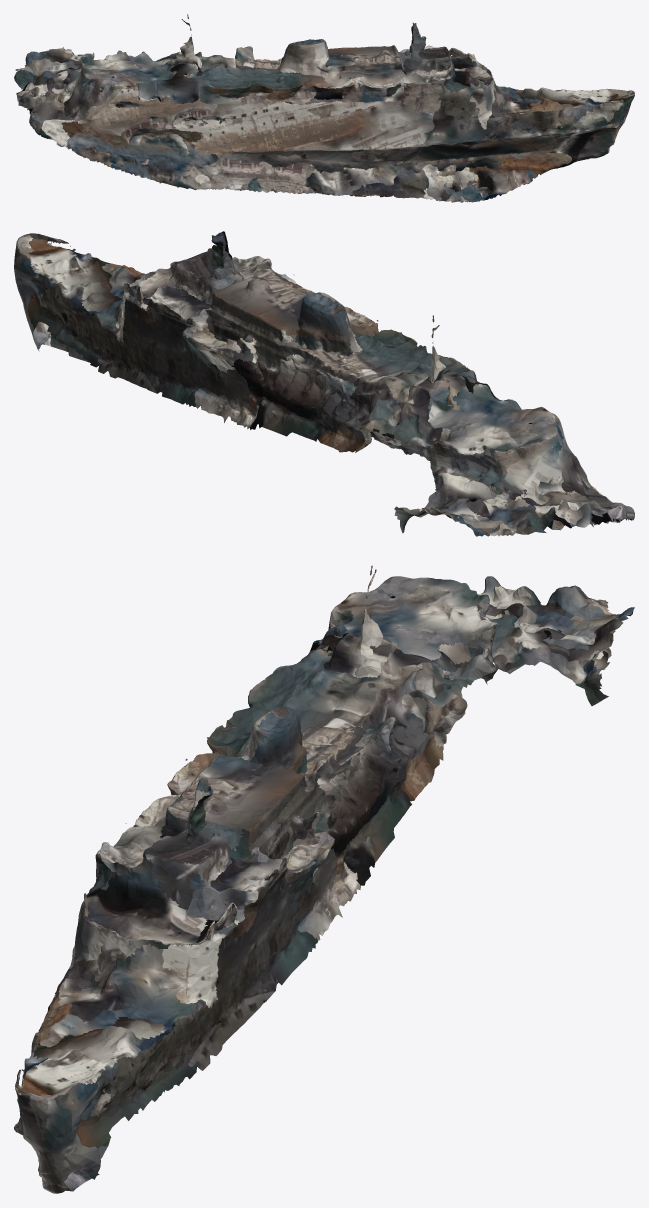
Rendered from cruise-wreck.glb.
3 renders of one model, top to bottom at view 1: azimuth 30°, elevation 25°; view 2: azimuth 150°, elevation 25°; view 3: azimuth 270°, elevation 25°, orthographic. The views are drawn at different scales.
Visible parts, largest first — view 1: scan; view 2: scan; view 3: scan.
Part boxes in pixels (box(x1,y1,x2,y2)): scan: box(14, 14, 634, 202); scan: box(14, 231, 634, 536); scan: box(14, 565, 634, 1193).
Bounding box in the file's own units: 92 × 30.99 × 51.12.
Materials: 2 (2 with a texture image).
